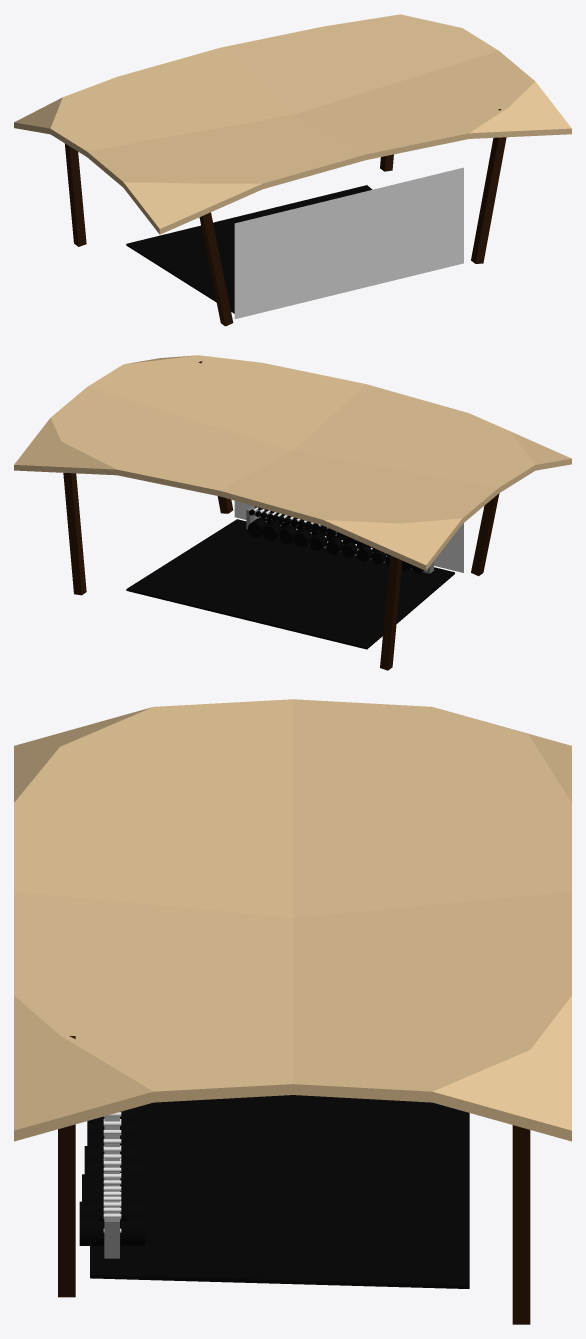
The model's file is gym.glb.
The picture shows the model from 3 angles, top to bottom: view 1: azimuth 30°, elevation 25°; view 2: azimuth 150°, elevation 25°; view 3: azimuth 270°, elevation 25°; orthographic projection. The views are drawn at different scales.
Visible parts, largest first — view 1: Roof, BackWall, Mat, Post.BL, Post.BR, Post.FR; view 2: Roof, Mat, Post.FL, Post.FR, BackWall, Post.BR; view 3: Roof, Mat, Post.FL, Post.BL, Dumbbell.033, Rack.
Part boxes in pixels (bbox=[...]): Roof: bbox=[14, 14, 571, 234]; BackWall: bbox=[234, 167, 463, 319]; Mat: bbox=[126, 185, 372, 313]; Post.BL: bbox=[471, 109, 506, 263]; Post.BR: bbox=[199, 212, 233, 326]; Post.FR: bbox=[64, 143, 86, 246]; Roof: bbox=[14, 355, 571, 570]; Mat: bbox=[126, 519, 454, 649]; Post.FL: bbox=[63, 473, 86, 595]; Post.FR: bbox=[380, 555, 402, 670]; BackWall: bbox=[234, 501, 463, 572]; Post.BR: bbox=[471, 493, 499, 576]; Roof: bbox=[14, 699, 571, 1141]; Mat: bbox=[90, 1095, 469, 1288]; Post.FL: bbox=[512, 1125, 530, 1324]; Post.BL: bbox=[58, 1036, 75, 1297]; Dumbbell.033: bbox=[79, 1215, 145, 1245]; Rack: bbox=[104, 1116, 119, 1258].
Size of the model in its own units: 17.98 by 6.24 by 11.02.
